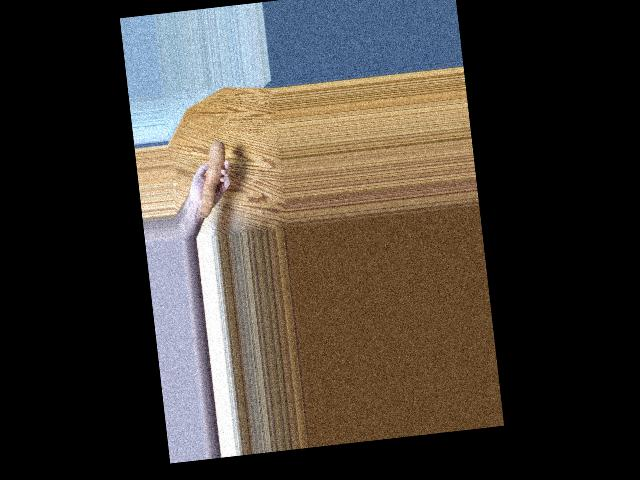sweet_potato: (194, 128, 235, 209)
